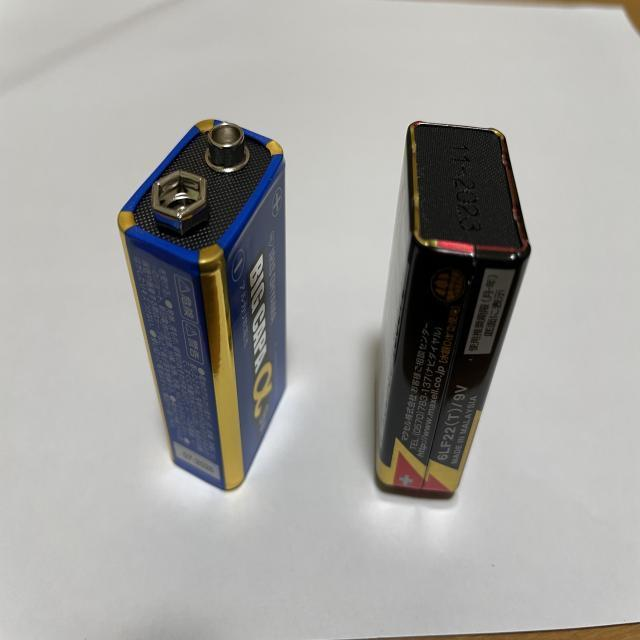9V: (118, 118, 293, 495), (374, 120, 532, 497)
